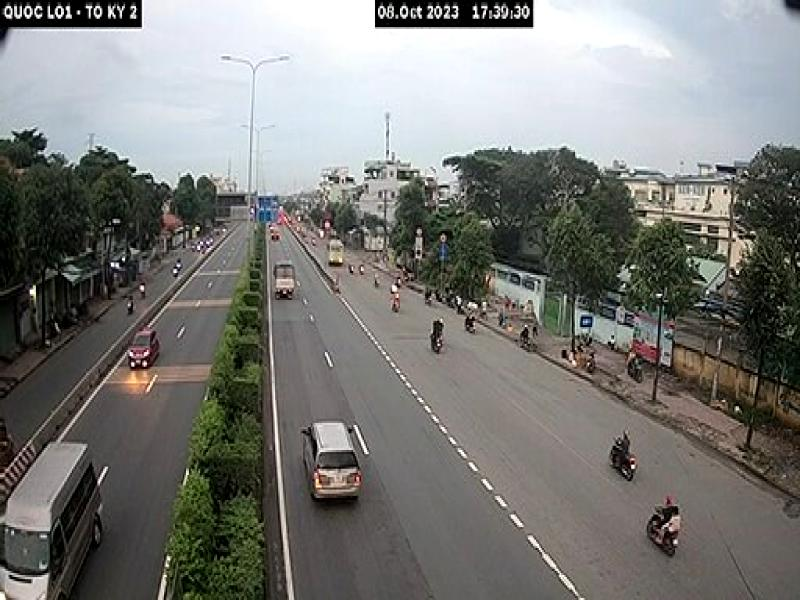car: (0, 441, 103, 600), (302, 419, 364, 507), (124, 323, 164, 373)
